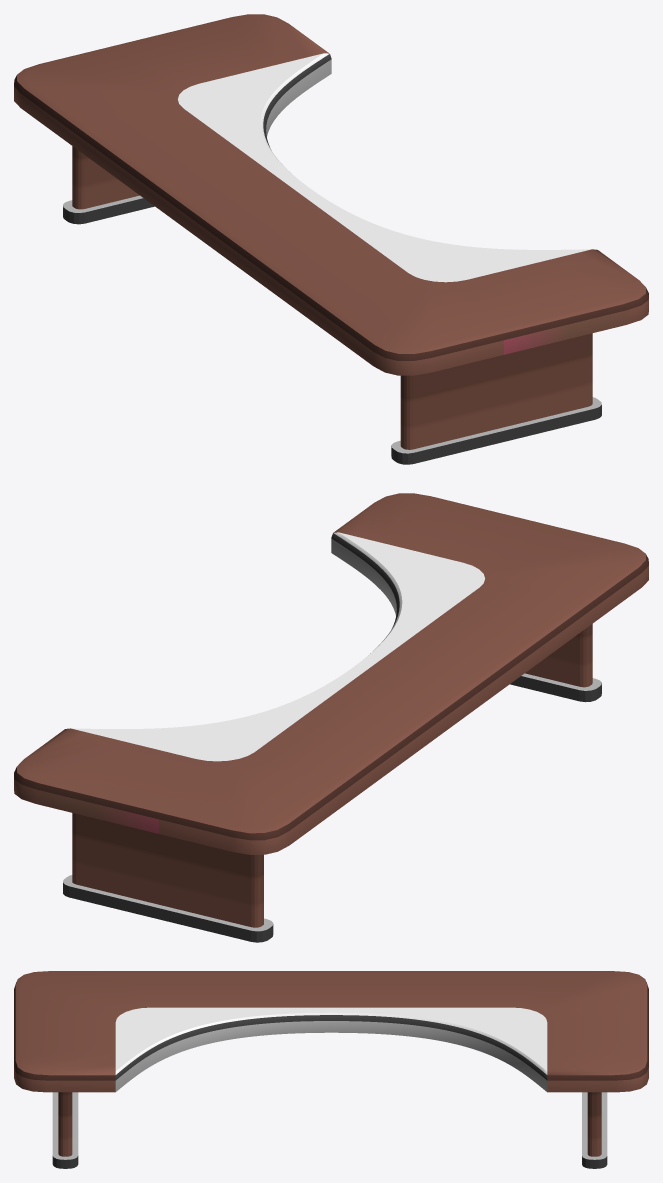
Rendered from Staff Table.fbx.
3 views of the same model, one above another, from view 1: azimuth 30°, elevation 25°; view 2: azimuth 150°, elevation 25°; view 3: azimuth 270°, elevation 25° (orthographic). The views are drawn at different scales.
Parts seen in each view (by area): view 1: Staff Table; view 2: Staff Table; view 3: Staff Table.
Boxes of the visible parts, x1=… form: Staff Table: x1=14, y1=14, x2=648, y2=464; Staff Table: x1=14, y1=493, x2=648, y2=942; Staff Table: x1=14, y1=971, x2=648, y2=1168.
Bounding box in the file's own units: 15.49 × 7.33 × 39.38.
